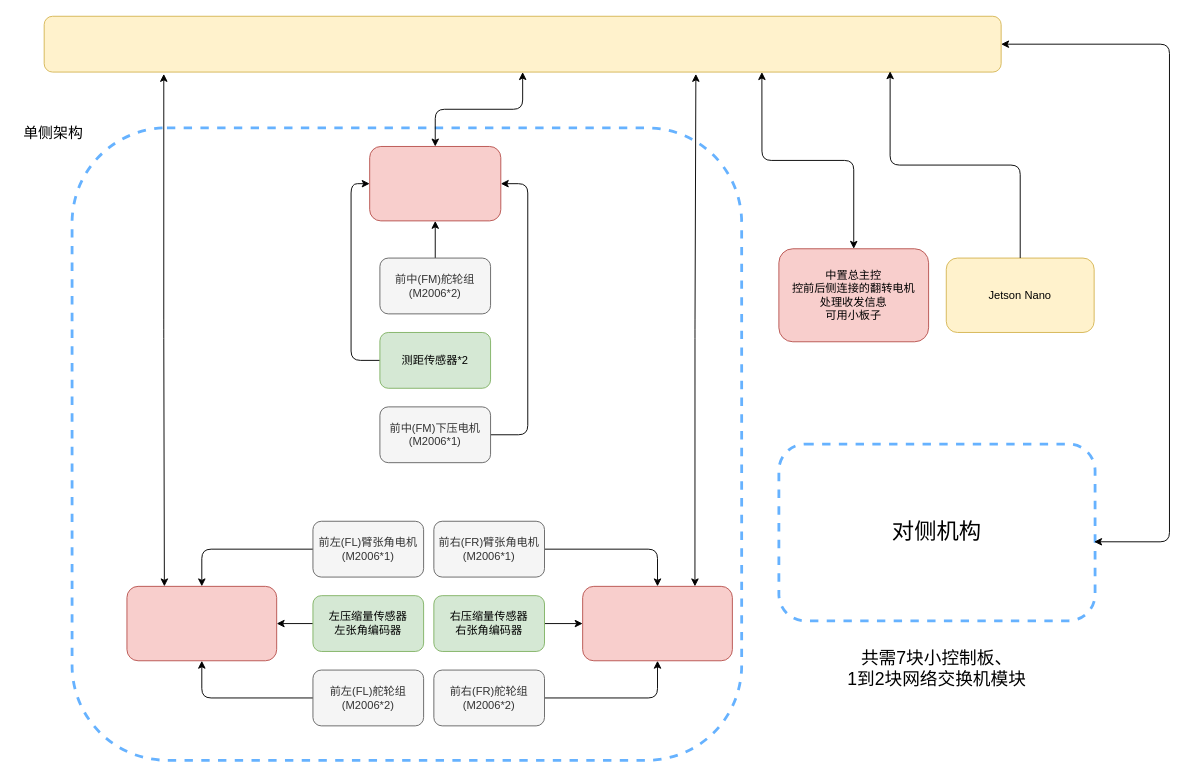
This 1194x777 diagram has some shape labels left out. Here are the shapes that lost their labels. From the top down, the box of each, then its label:
(43, 15, 1001, 72): 交换机
(369, 146, 501, 221): 前中(FM)主控 控制单边轮速同步 中间舵轮
(126, 585, 277, 661): 前左(FL)主控 控制左臂电机以及舵轮 传输张角
(582, 585, 732, 661): 前右(FR)主控 控制左臂电机以及舵轮 传输张角
